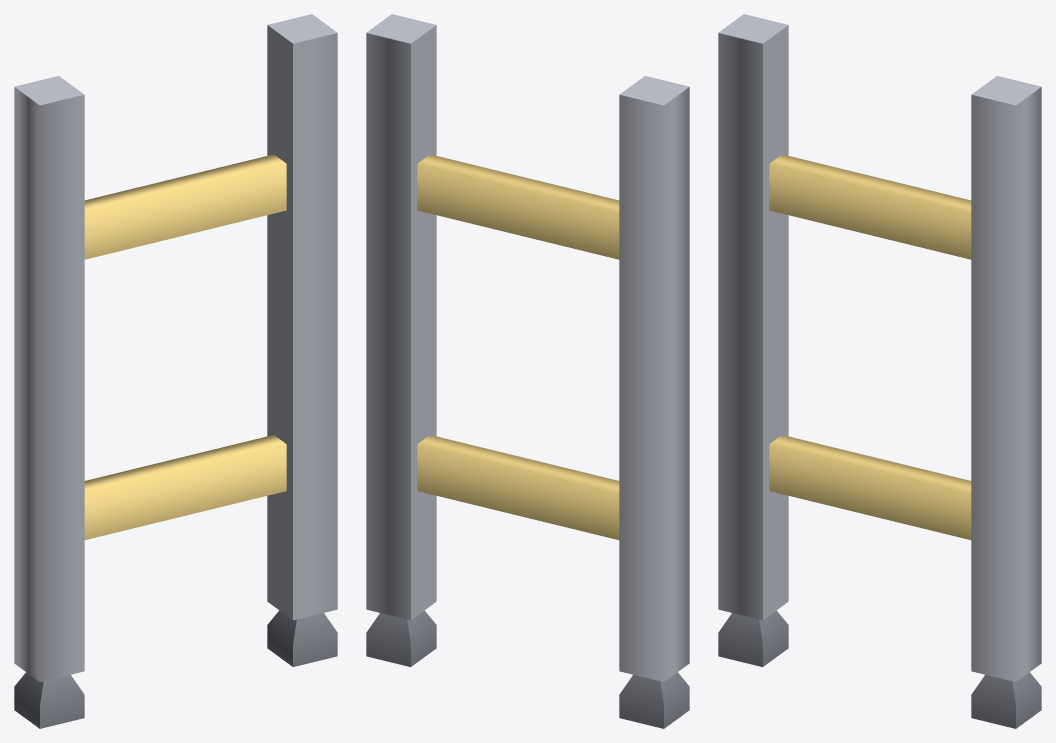
Rendered from structure-yellow-tall.fbx.
3 views of the same model, side by side, from view 1: azimuth 30°, elevation 25°; view 2: azimuth 150°, elevation 25°; view 3: azimuth 330°, elevation 25° (orthographic).
Visible parts, largest first — view 1: structure-yellow-tall; view 2: structure-yellow-tall; view 3: structure-yellow-tall.
Boxes of the visible parts, x1,y1,x2,y2 form: structure-yellow-tall: [14, 14, 337, 728]; structure-yellow-tall: [366, 14, 689, 728]; structure-yellow-tall: [718, 14, 1041, 728].
Bounding box in the file's own units: 100 × 200 × 15.
